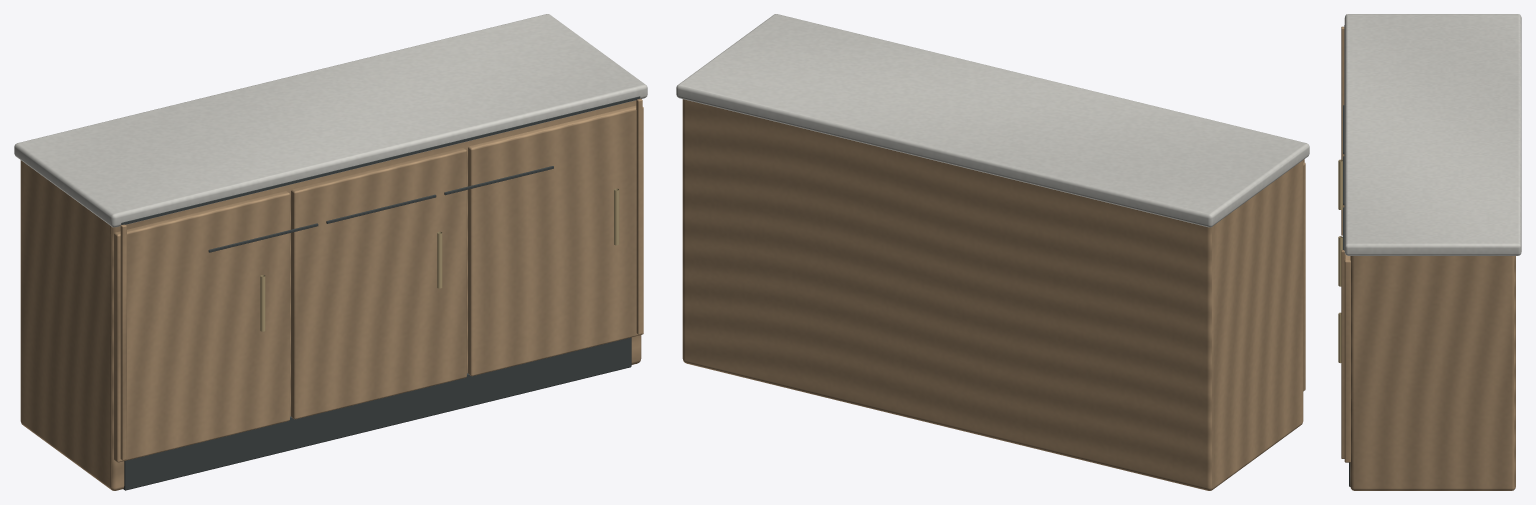
The model's file is counter.glb.
The picture shows the model from 3 angles, left to right: view 1: azimuth 30°, elevation 25°; view 2: azimuth 150°, elevation 25°; view 3: azimuth 270°, elevation 25°; orthographic projection. The views are drawn at different scales.
Visible parts, largest first — view 1: 家具_counter; view 2: 家具_counter; view 3: 家具_counter.
Part boxes in pixels (x1,y1,x2,y2): 家具_counter: (14,14,647,490); 家具_counter: (676,14,1309,490); 家具_counter: (1338,14,1521,490).
Bounding box in the file's own units: 1.8 × 0.9 × 0.6.
Materials: 4 (2 with a texture image).
